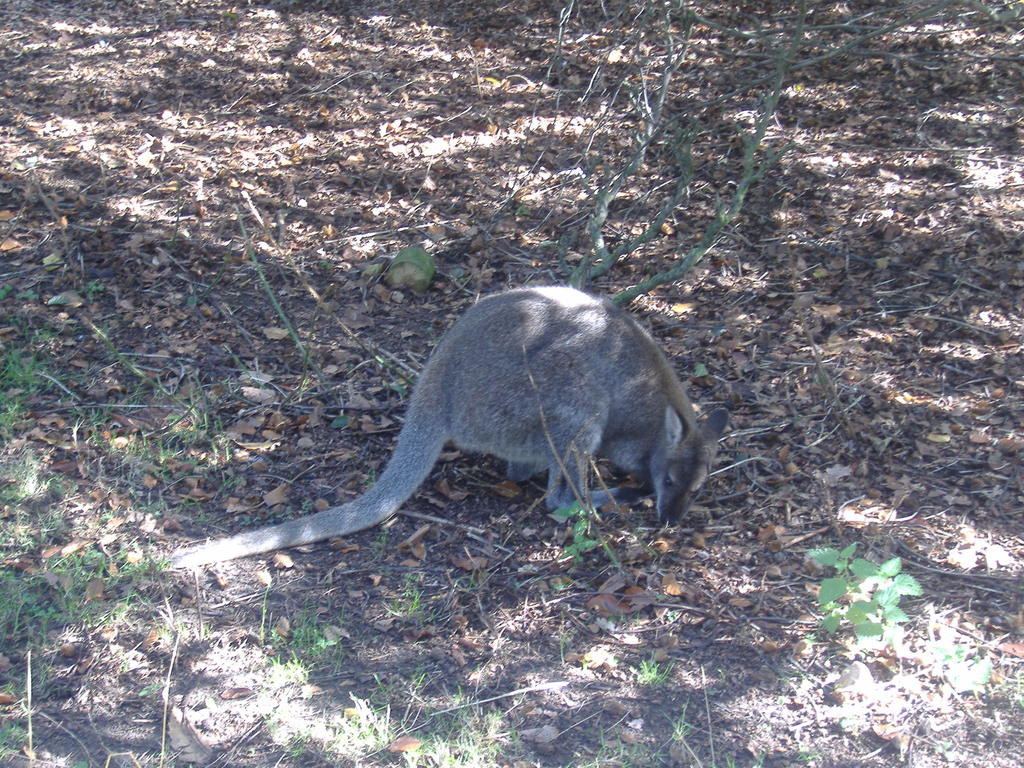kangaroo: (171, 284, 728, 567)
